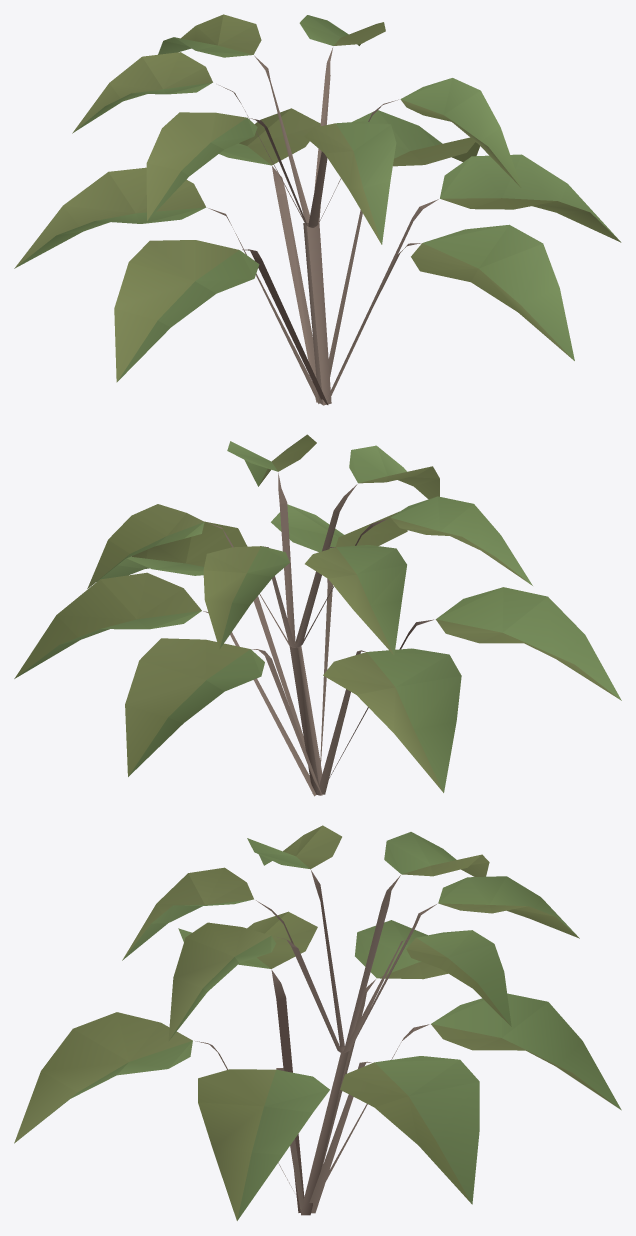
The picture shows the model from 3 angles, top to bottom: view 1: azimuth 30°, elevation 25°; view 2: azimuth 150°, elevation 25°; view 3: azimuth 270°, elevation 25°; orthographic projection. The views are drawn at different scales.
Parts seen in each view (by area): view 1: model; view 2: model; view 3: model.
Part boxes in pixels (x1,y1,x2,y2): model: [14, 14, 621, 405]; model: [14, 434, 621, 796]; model: [14, 825, 621, 1220].
Bounding box in the file's own units: 1.95 × 1.11 × 1.94.
